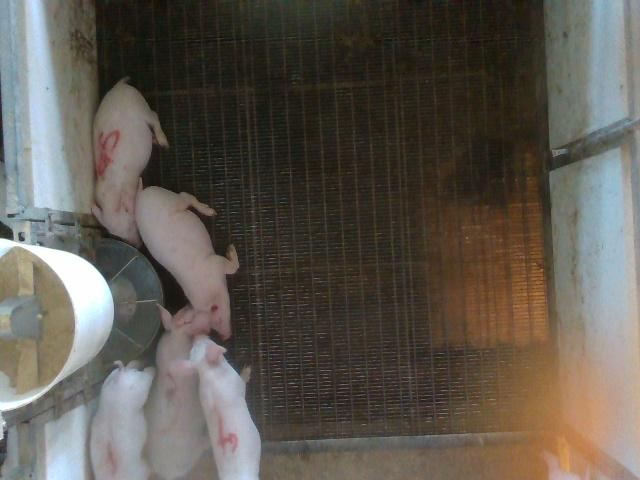pig-1: (90, 361, 155, 479)
pig-3: (145, 306, 210, 479)
pig-4: (170, 335, 261, 478)
pig-5: (91, 78, 169, 247)
